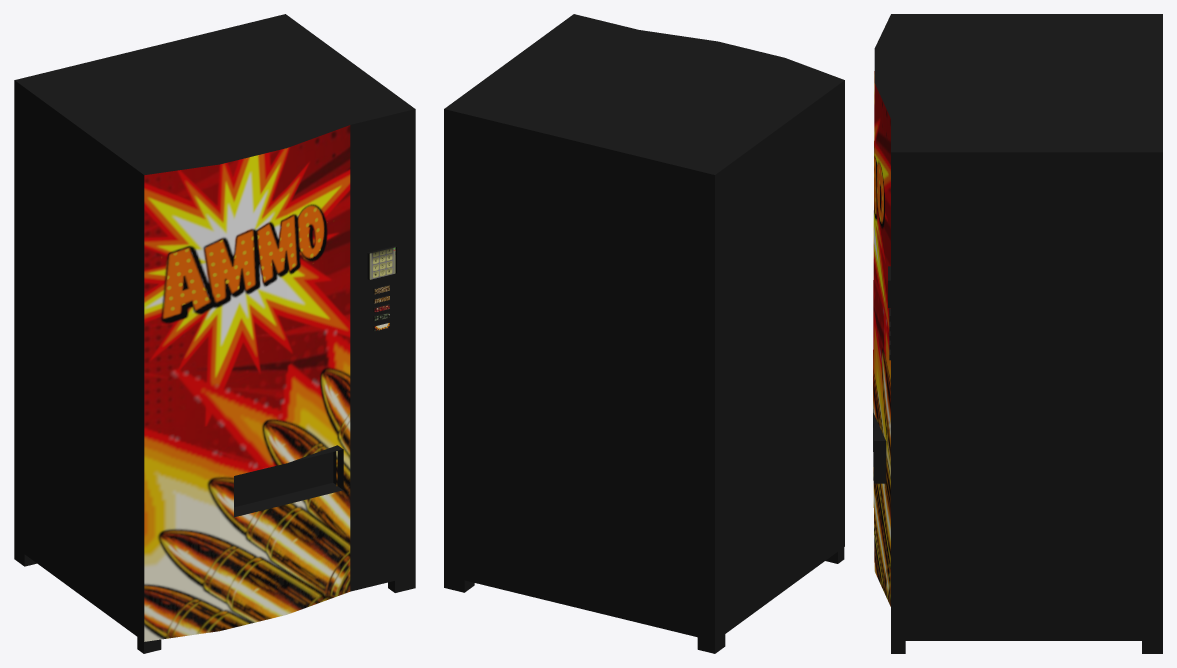
Rendered from AmmoVendingMachine.glb.
3 renders of one model, left to right at view 1: azimuth 30°, elevation 25°; view 2: azimuth 150°, elevation 25°; view 3: azimuth 270°, elevation 25°, orthographic. The views are drawn at different scales.
Parts seen in each view (by area): view 1: Cube; view 2: Cube; view 3: Cube.
Part boxes in pixels (left/top/right/bottom): Cube: left=14, top=14, right=415, bottom=653; Cube: left=444, top=14, right=844, bottom=653; Cube: left=873, top=14, right=1162, bottom=653.
Size of the model in its own units: 4.85 by 8.19 by 4.29.
2 materials, 2 textured.
